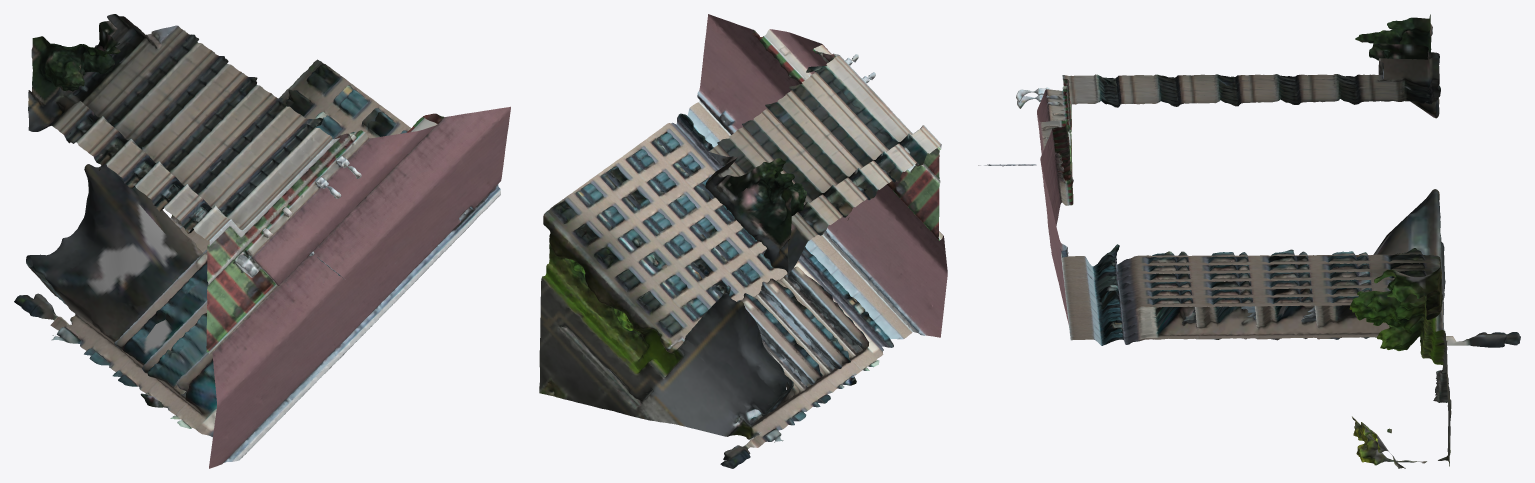
The model's file is Tile_+009_+019.fbx.
3 views of the same model, side by side, from view 1: azimuth 30°, elevation 25°; view 2: azimuth 150°, elevation 25°; view 3: azimuth 270°, elevation 25° (orthographic). The views are drawn at different scales.
Parts seen in each view (by area): view 1: DefaultName; view 2: DefaultName; view 3: DefaultName.
Boxes of the visible parts, x1=… form: DefaultName: x1=14, y1=14, x2=510, y2=468; DefaultName: x1=539, y1=14, x2=947, y2=468; DefaultName: x1=978, y1=14, x2=1520, y2=468.
Bounding box in the file's own units: 22.54 × 22.54 × 35.87.
